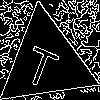T: (21, 37, 64, 91)
